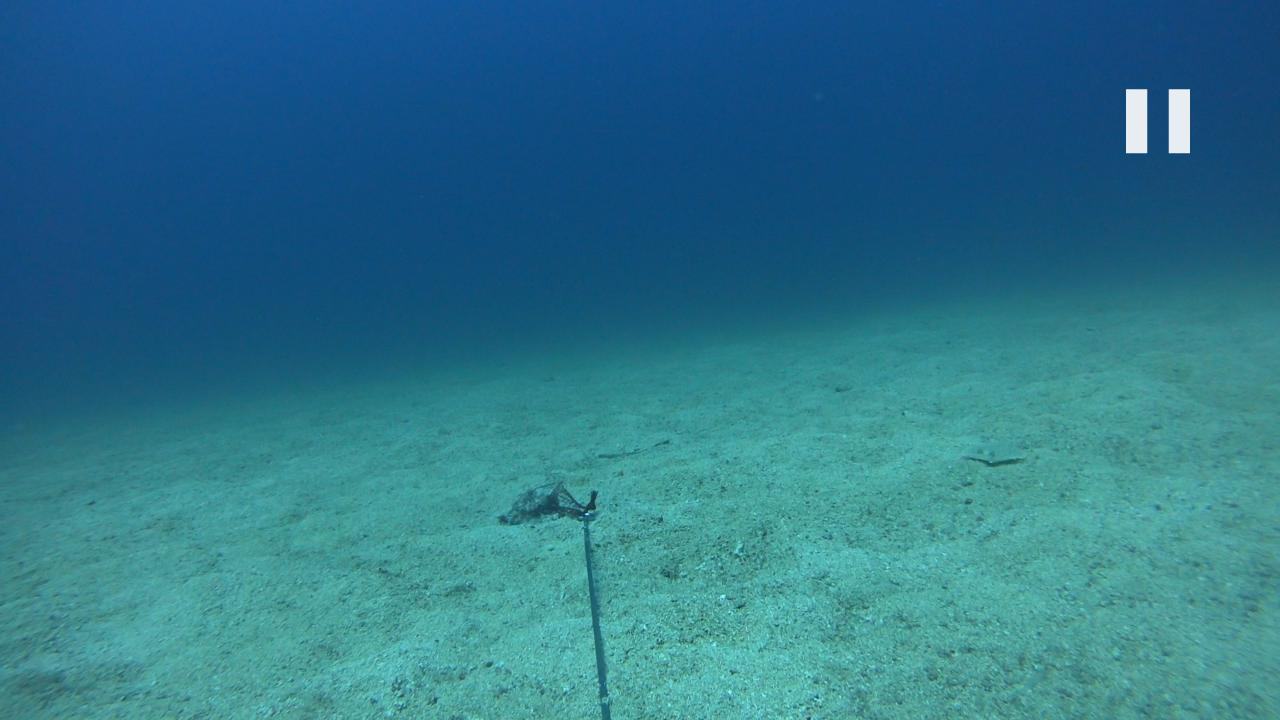bothus: (950, 428, 1032, 470)
